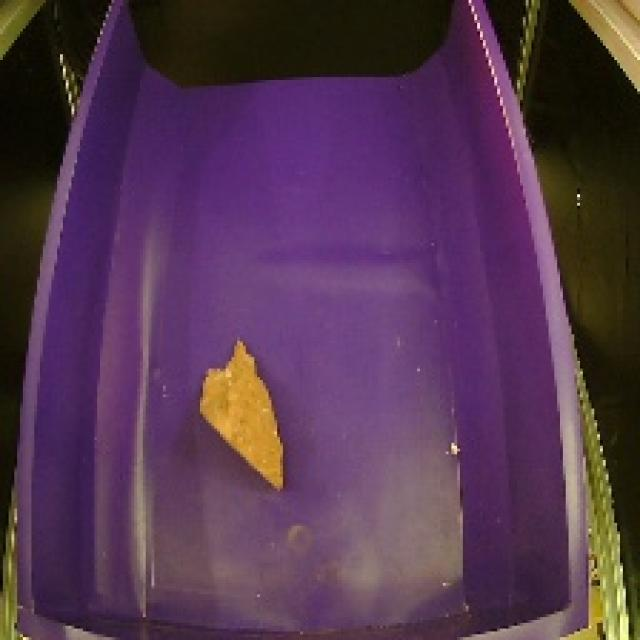brick: (190, 329, 294, 501)
